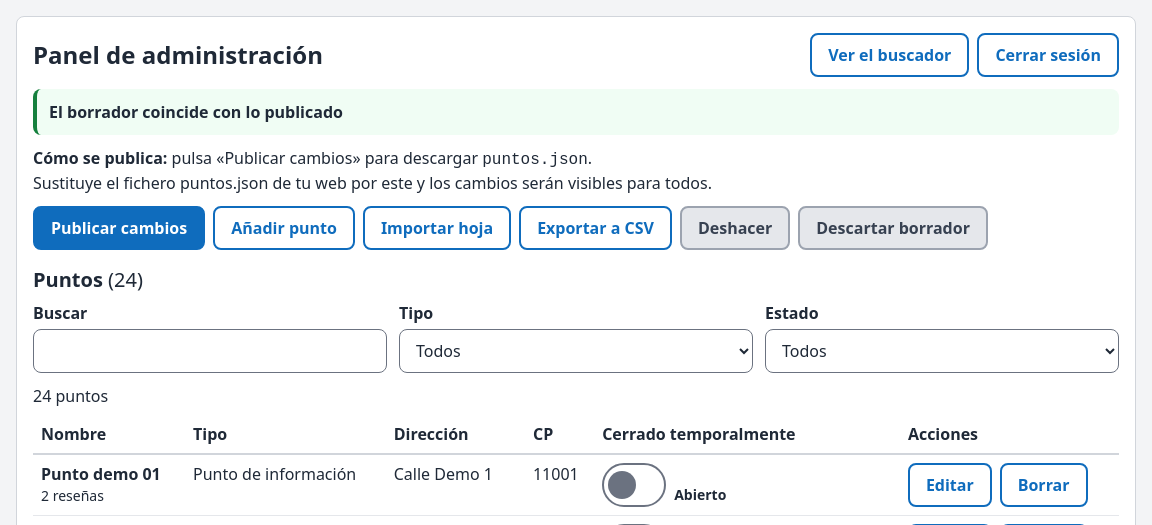
Test: PanelAdmin › «Descartar borrador» pide confirmación y vuelve al publicado
expect the text "El borrador coincide con lo publicado" is shown: met, box [33,89,1119,135]
Click the switch named "Cerrado temporalmente: Punto demo 01" at x=634, y=485, box [602,463,666,507]
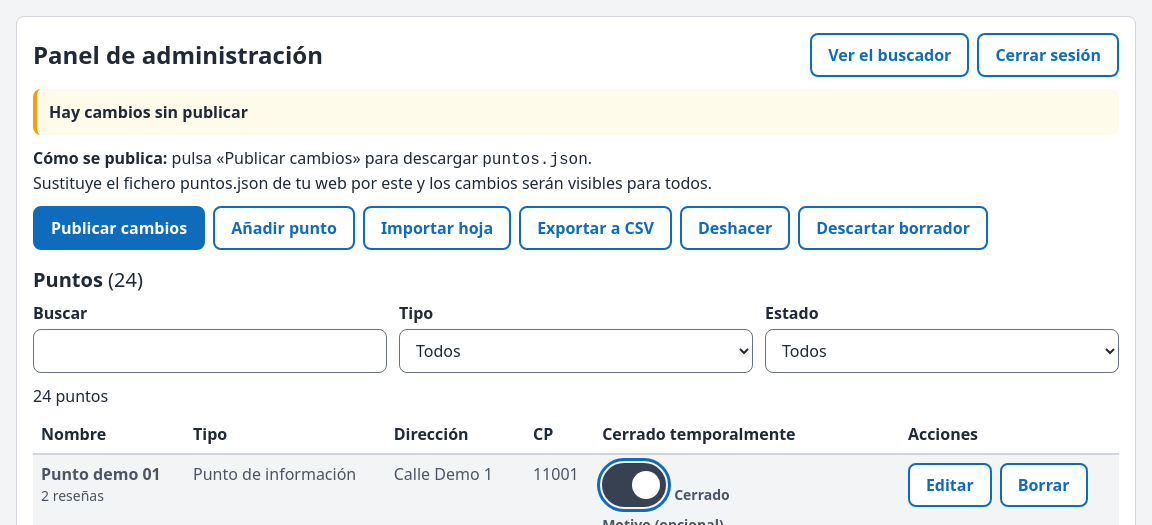
expect the text "Hay cambios sin publicar" is shown: met, box [33,89,1119,135]
Click the button "Descartar borrador" at x=893, y=228, box [798,206,988,250]
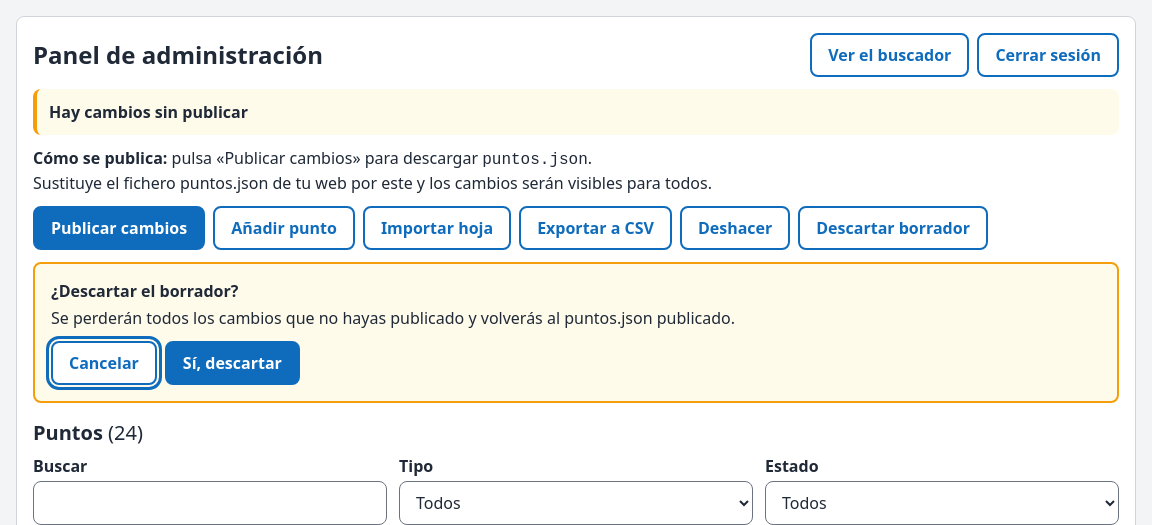
expect the dialog is shown: met, box [33,262,1119,403]
Click the button "Sí, descartar" at x=232, y=363, box [165,341,300,385]
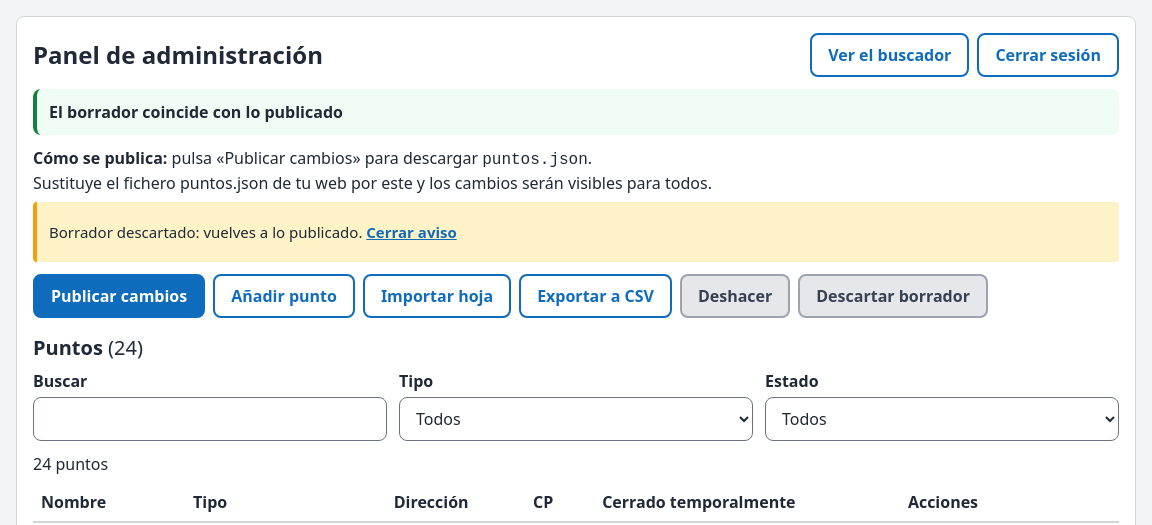
expect the text "El borrador coincide con lo publicado" is shown: met, box [33,89,1119,135]
